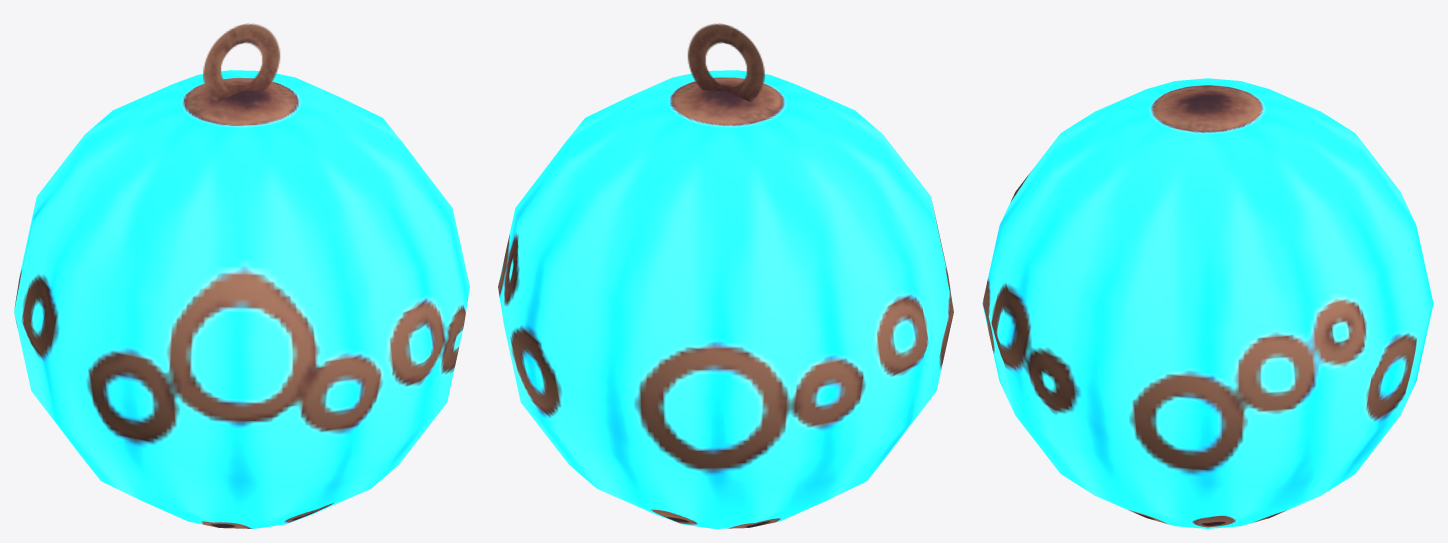
The model's file is bombRound.gltf.
The picture shows the model from 3 angles, left to right: view 1: azimuth 30°, elevation 25°; view 2: azimuth 150°, elevation 25°; view 3: azimuth 270°, elevation 25°; orthographic projection.
Visible parts, largest first — view 1: bombRound; view 2: bombRound; view 3: bombRound.
Part boxes in pixels (x1,y1,x2,y2): bombRound: (14, 23, 469, 528); bombRound: (498, 23, 953, 528); bombRound: (982, 78, 1433, 528).
Size of the model in its own units: 0.996 by 1.16 by 0.996.
Materials: 1 (1 with a texture image).
